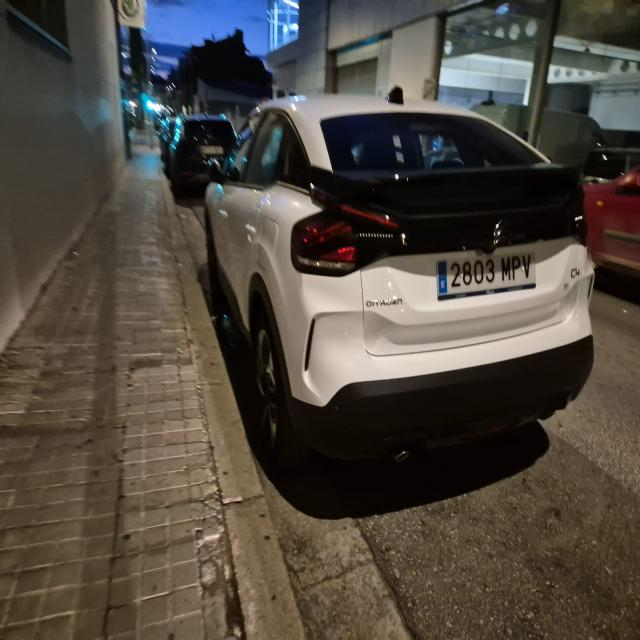license_plate-34Td: (436, 252, 535, 299)
